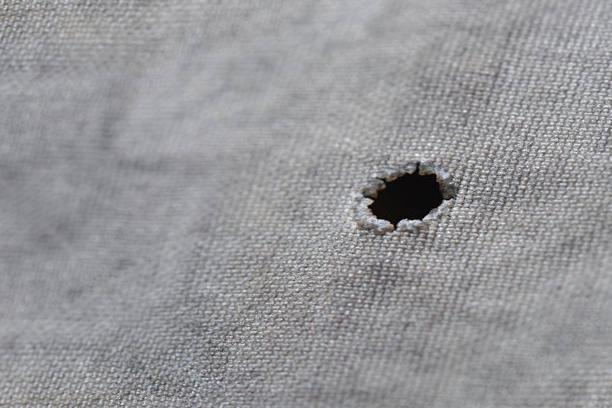hole: (353, 159, 461, 236)
